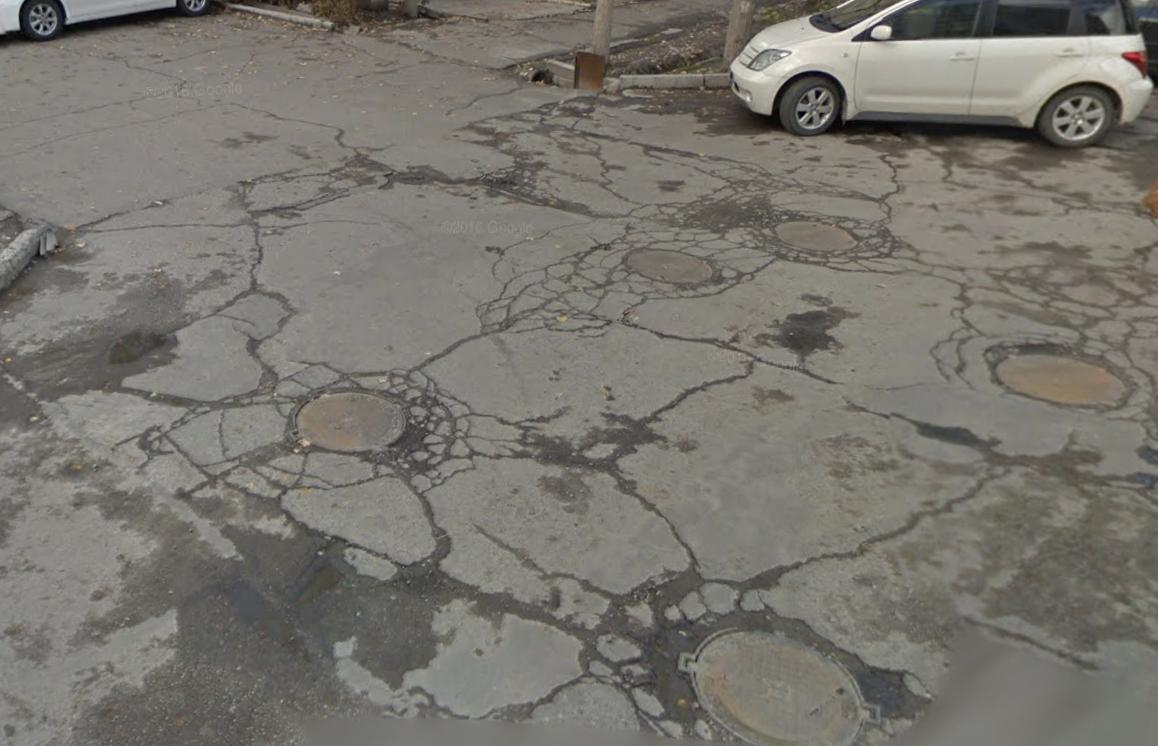longitudinal_crack: (226, 133, 408, 234), (479, 99, 629, 217), (619, 552, 771, 660), (174, 393, 300, 516), (497, 252, 649, 331), (671, 193, 771, 248), (422, 407, 489, 486), (860, 208, 904, 276)
